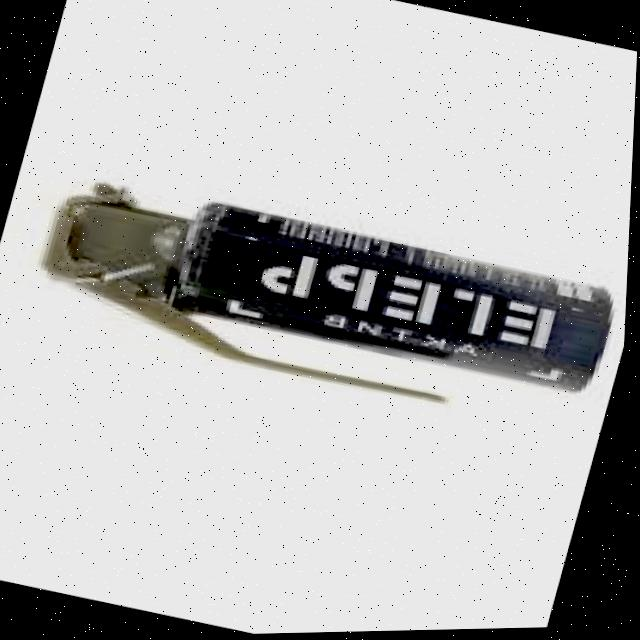grenade: (0, 142, 635, 451)
